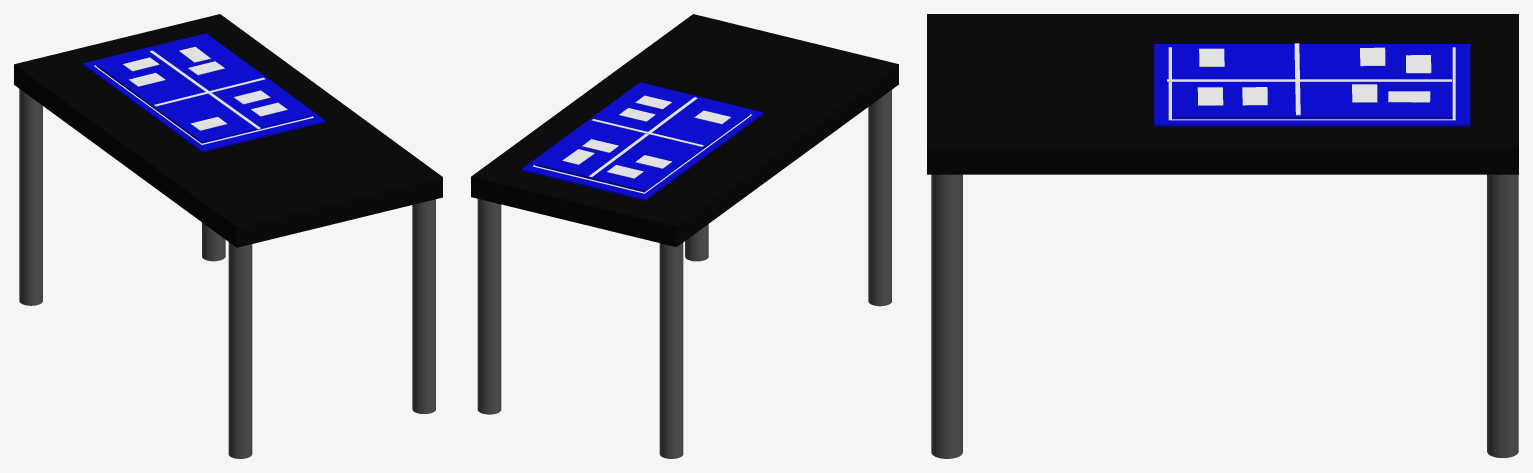
File: TableWithBlueprint.fbx
3 renders of one model, left to right at view 1: azimuth 30°, elevation 25°; view 2: azimuth 150°, elevation 25°; view 3: azimuth 270°, elevation 25°, orthographic. The views are drawn at different scales.
Parts seen in each view (by area): view 1: Cube, Cube.003, Cylinder.001, Cylinder, Cylinder.002, Cube.001, Cylinder.003, Cube.002, Cube.012; view 2: Cube, Cube.003, Cylinder.002, Cylinder.003, Cylinder.001, Cube.001, Cylinder, Cube.002, Cube.012; view 3: Cube, Cube.003, Cylinder, Cylinder.003, Cube.001, Cube.002, Cube.012.
Boxes of the visible parts, x1,y1,x2,y2 form: Cube: (14,14,442,247); Cube.003: (96,37,311,143); Cylinder.001: (228,242,252,458); Cylinder: (412,199,435,413); Cylinder.002: (19,89,42,305); Cube.001: (82,33,325,152); Cylinder.003: (202,222,225,261); Cube.002: (94,65,313,144); Cube.012: (150,50,260,129); Cube: (471,14,898,246); Cube.003: (535,86,749,192); Cylinder.002: (659,243,683,458); Cylinder.003: (477,199,501,414); Cylinder.001: (868,90,891,306); Cube.001: (521,82,763,201); Cylinder: (685,224,708,261); Cube.002: (533,114,751,193); Cube.012: (589,97,697,177); Cube: (927,14,1518,174); Cube.003: (1172,45,1452,119); Cylinder: (931,174,962,458); Cylinder.003: (1487,174,1518,457); Cube.001: (1154,44,1470,126); Cube.002: (1168,47,1455,120); Cube.012: (1167,79,1451,81).
Bounding box in the file's own units: 200 × 223 × 374.
